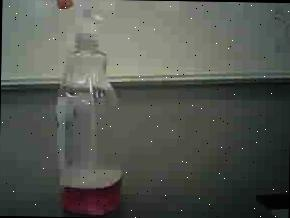hazard: (39, 0, 145, 218)
